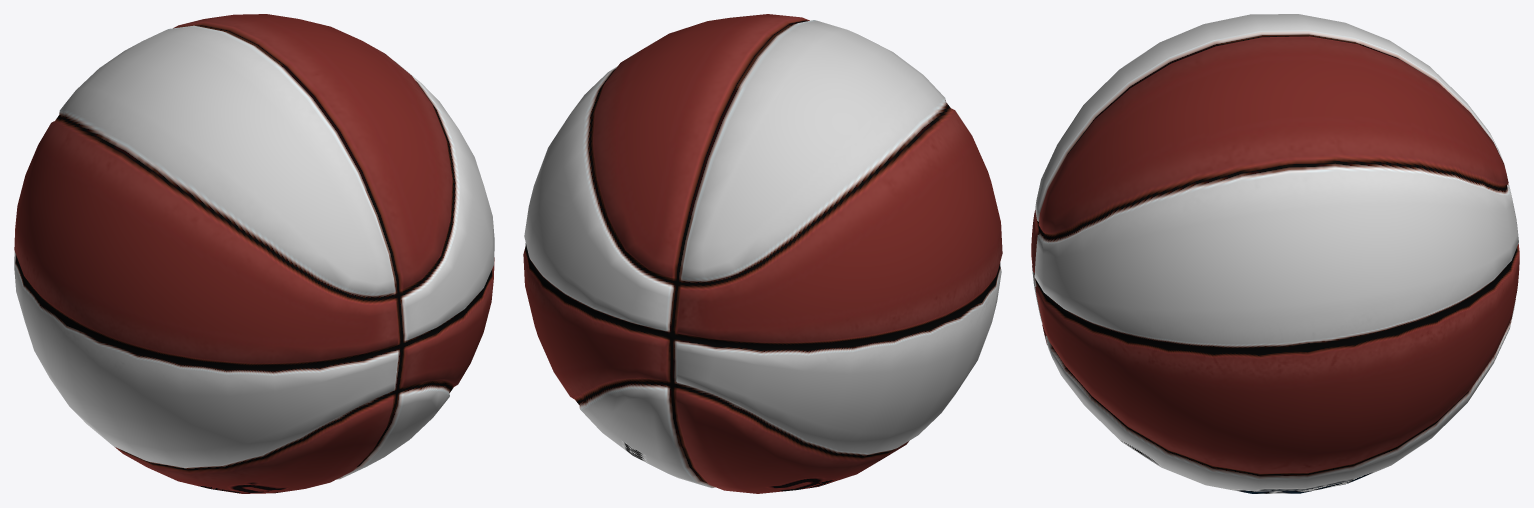
The model's file is 012-qiu02.FBX.
The picture shows the model from 3 angles, left to right: view 1: azimuth 30°, elevation 25°; view 2: azimuth 150°, elevation 25°; view 3: azimuth 270°, elevation 25°; orthographic projection.
Visible parts, largest first — view 1: 012-qiu02; view 2: 012-qiu02; view 3: 012-qiu02.
Part boxes in pixels (x1,y1,x2,y2): 012-qiu02: (14, 14, 494, 493); 012-qiu02: (523, 14, 1002, 493); 012-qiu02: (1031, 14, 1519, 493).
Size of the model in its own units: 21.48 by 21.5 by 21.88.
